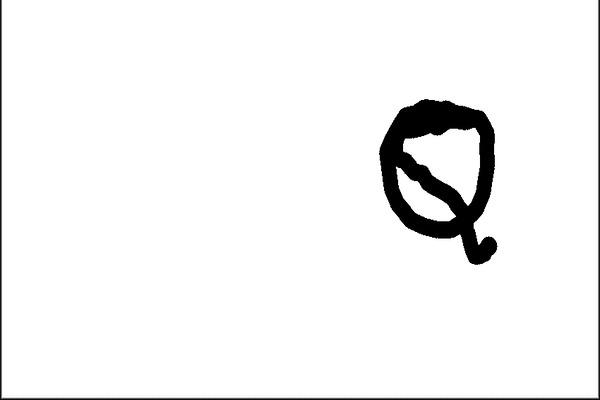Q: (368, 93, 501, 267)
